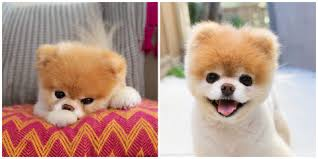dog: (181, 21, 284, 125), (31, 42, 131, 123)
